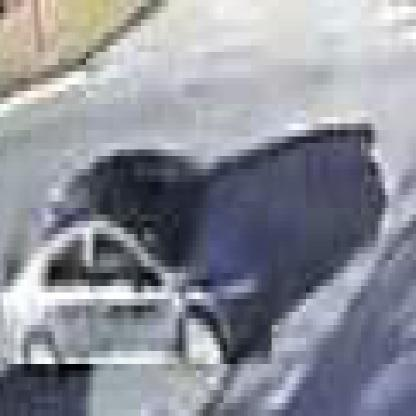car: (5, 144, 273, 372)
